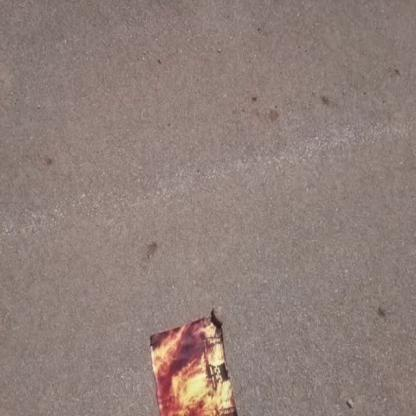fire-poster: (148, 306, 240, 415)
